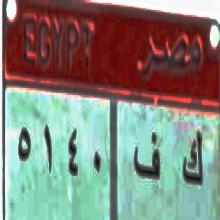0: (88, 140, 111, 189)
1: (39, 114, 60, 186)
4: (64, 115, 84, 184)
5: (13, 125, 35, 175)
faa: (128, 125, 165, 189)
kaaf: (179, 124, 205, 196)
